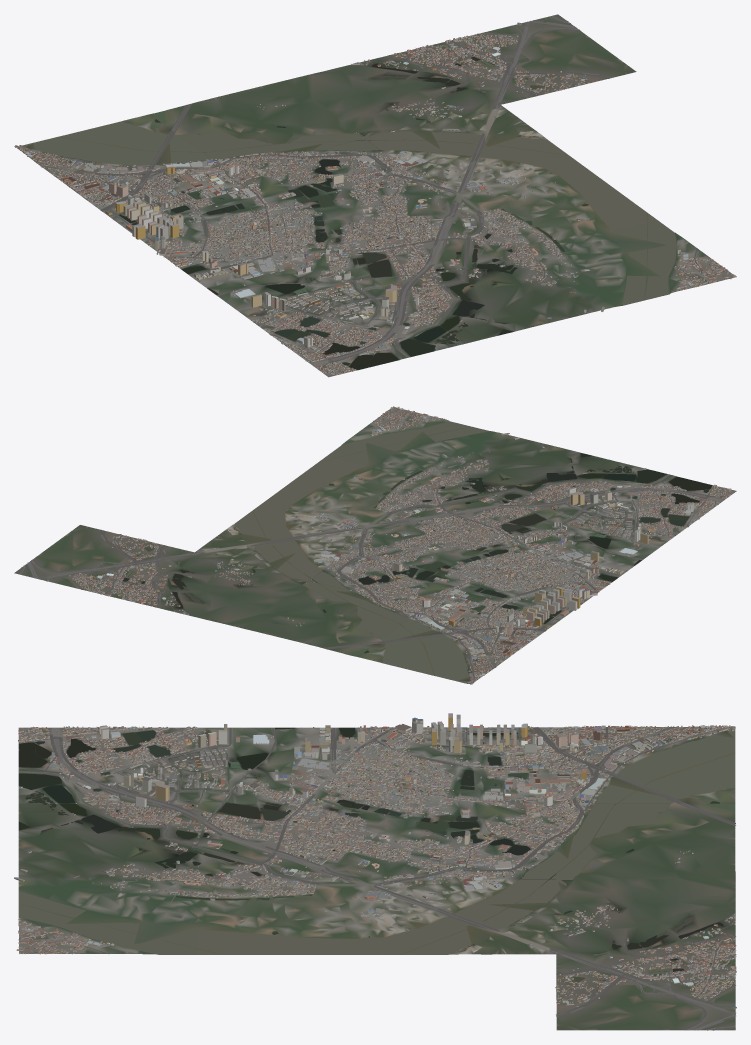
3 views of the same model, one above another, from view 1: azimuth 30°, elevation 25°; view 2: azimuth 150°, elevation 25°; view 3: azimuth 270°, elevation 25° (orthographic). The views are drawn at different scales.
Visible parts, largest first — view 1: ground, buildings, water, roads; view 2: ground, buildings, water, roads; view 3: ground, buildings, water, roads.
Part boxes in pixels (box(x1,y1,x2,y2)): ground: box(14, 14, 736, 377); buildings: box(15, 22, 736, 375); water: box(22, 53, 676, 370); roads: box(15, 15, 709, 374); ground: box(14, 407, 736, 683); buildings: box(46, 406, 731, 684); water: box(123, 421, 712, 683); roads: box(16, 412, 728, 683); ground: box(18, 726, 735, 1030); buildings: box(14, 713, 736, 1009); water: box(18, 727, 735, 981); roads: box(18, 726, 735, 1030).
Size of the model in its own units: 5643 by 124 by 5656.
